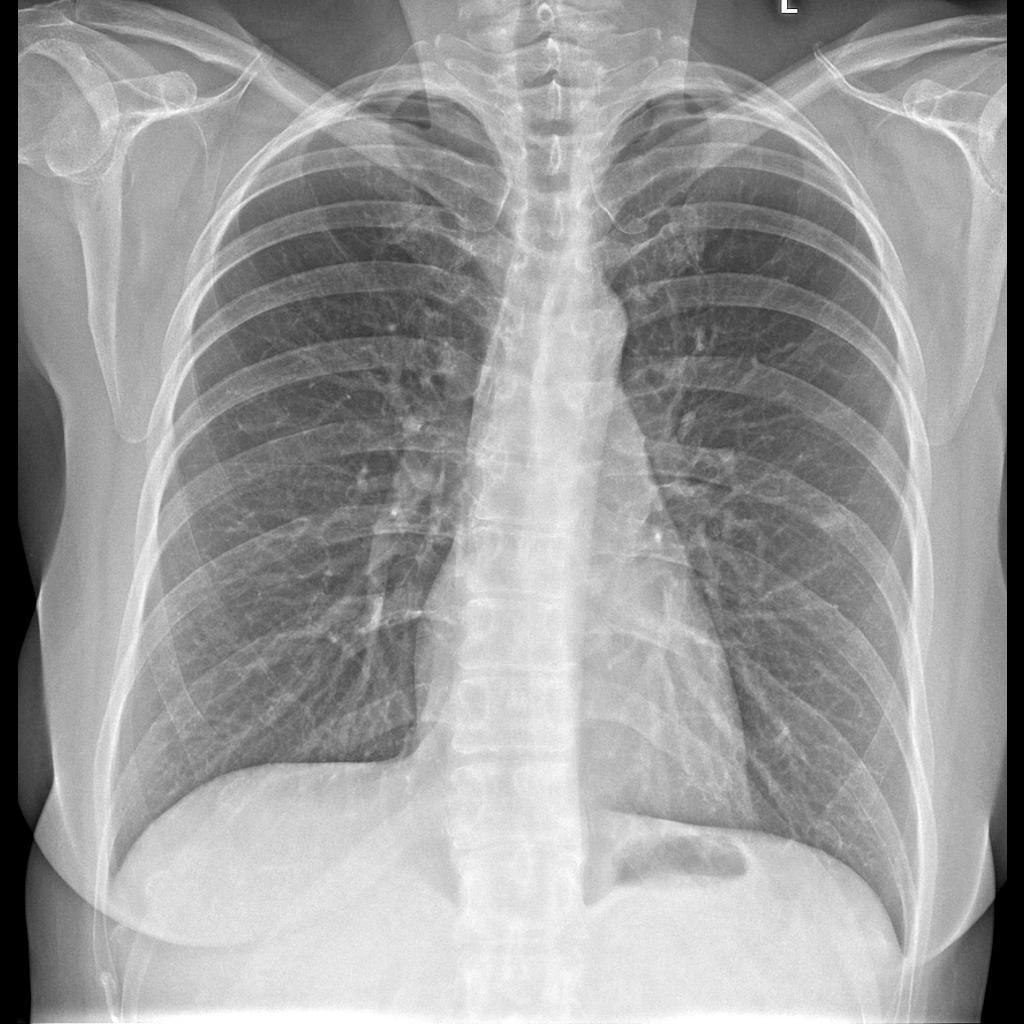Nodule: (806, 478, 860, 558)
